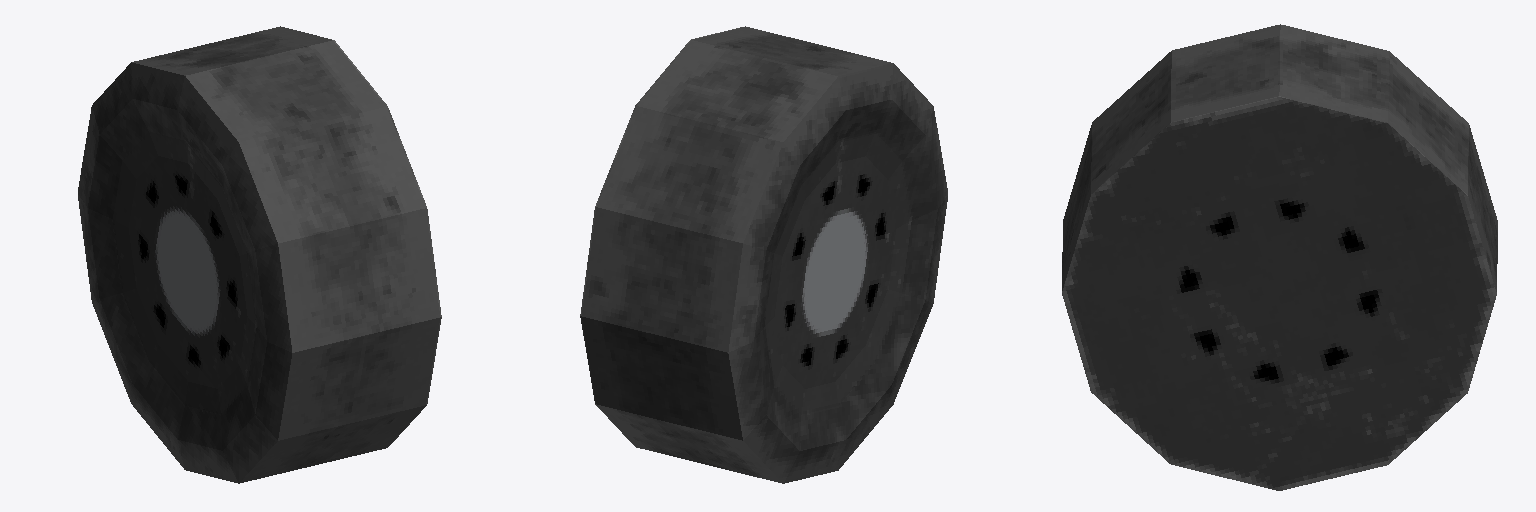
3 renders of one model, left to right at view 1: azimuth 30°, elevation 25°; view 2: azimuth 150°, elevation 25°; view 3: azimuth 270°, elevation 25°, orthographic.
Visible parts, largest first — view 1: llantaAtIzq; view 2: llantaAtIzq; view 3: llantaAtIzq.
Part boxes in pixels (left/top/right/bottom): llantaAtIzq: left=78, top=26, right=441, bottom=483; llantaAtIzq: left=580, top=26, right=947, bottom=483; llantaAtIzq: left=1062, top=24, right=1497, bottom=490.
Bounding box in the file's own units: 1.77 × 4.22 × 4.23.
Materials: 1 (1 with a texture image).